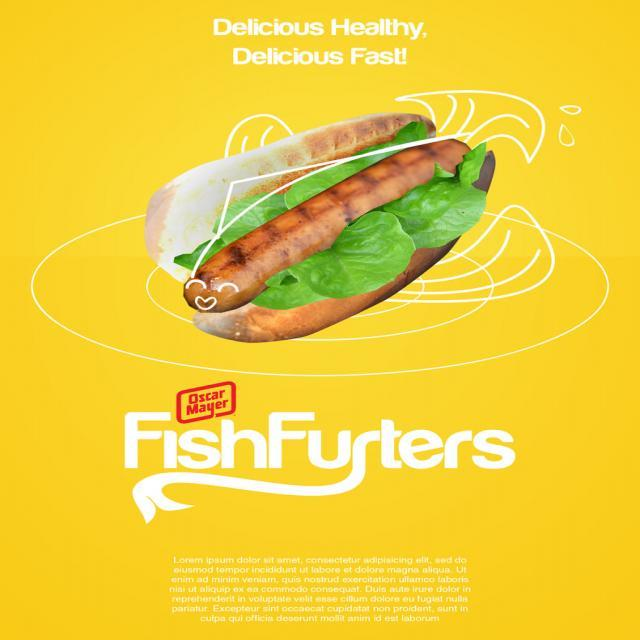Hot dog: (159, 97, 505, 345)
